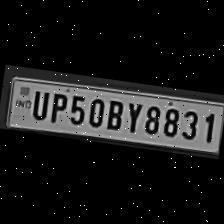0: (82, 92, 108, 128)
1: (198, 108, 220, 143)
3: (177, 106, 201, 142)
5: (64, 92, 88, 126)
8: (140, 100, 164, 136), (159, 103, 182, 139)
B: (101, 96, 126, 132)
P: (44, 88, 68, 124)
U: (26, 86, 51, 122)
Y: (119, 98, 144, 134)
